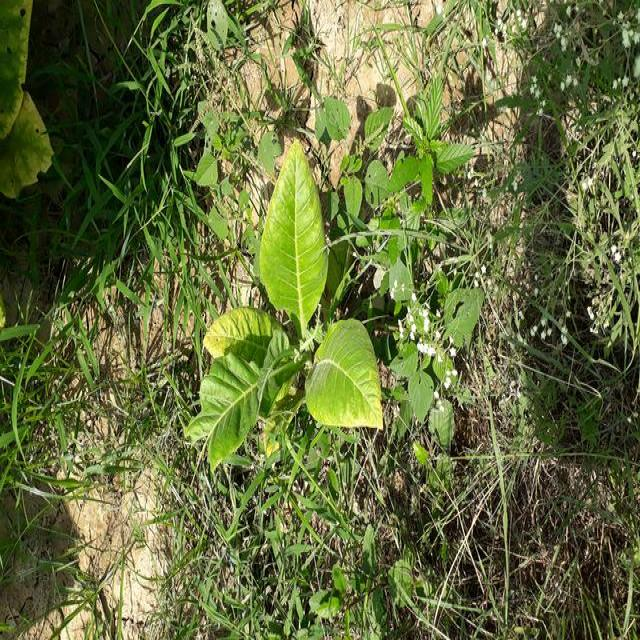crop: (198, 144, 379, 467), (0, 0, 58, 192)
